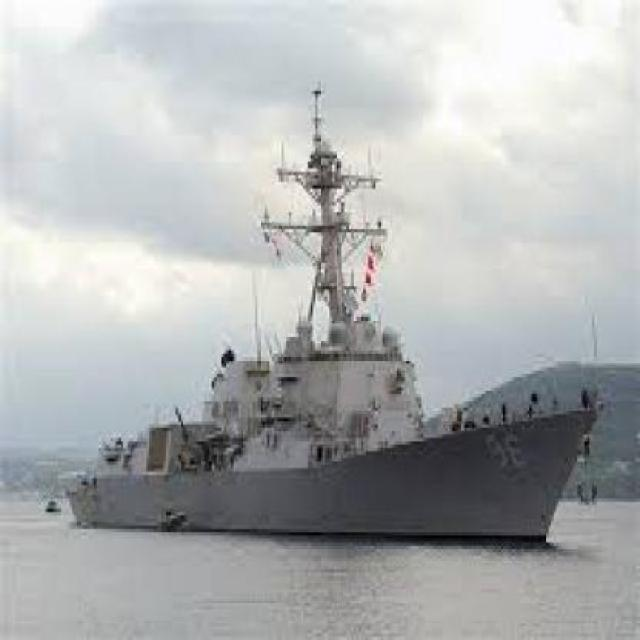warship2: (29, 72, 605, 584)
